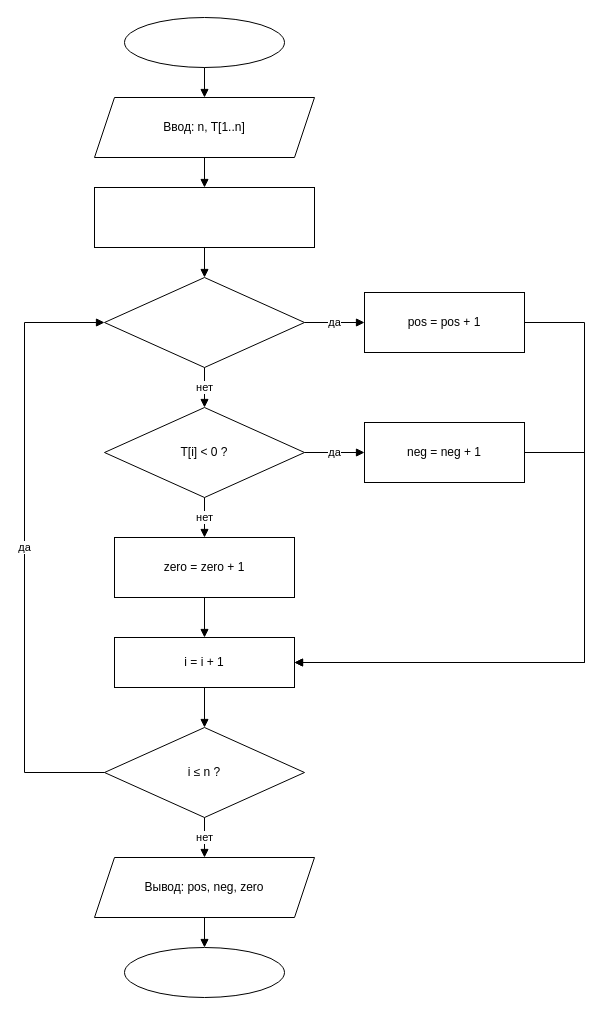
Image size: 610x1015. Some labels were removed from this diagram. Here are the shapes that lost their labels. From the top down, the centre of each, then its label:
At [204,42]: "Начало".
At [204,217]: "pos = 0; neg = 0; zero = 0; i = 1".
At [204,322]: "T[i] > 0 ?".
At [204,972]: "Конец".
